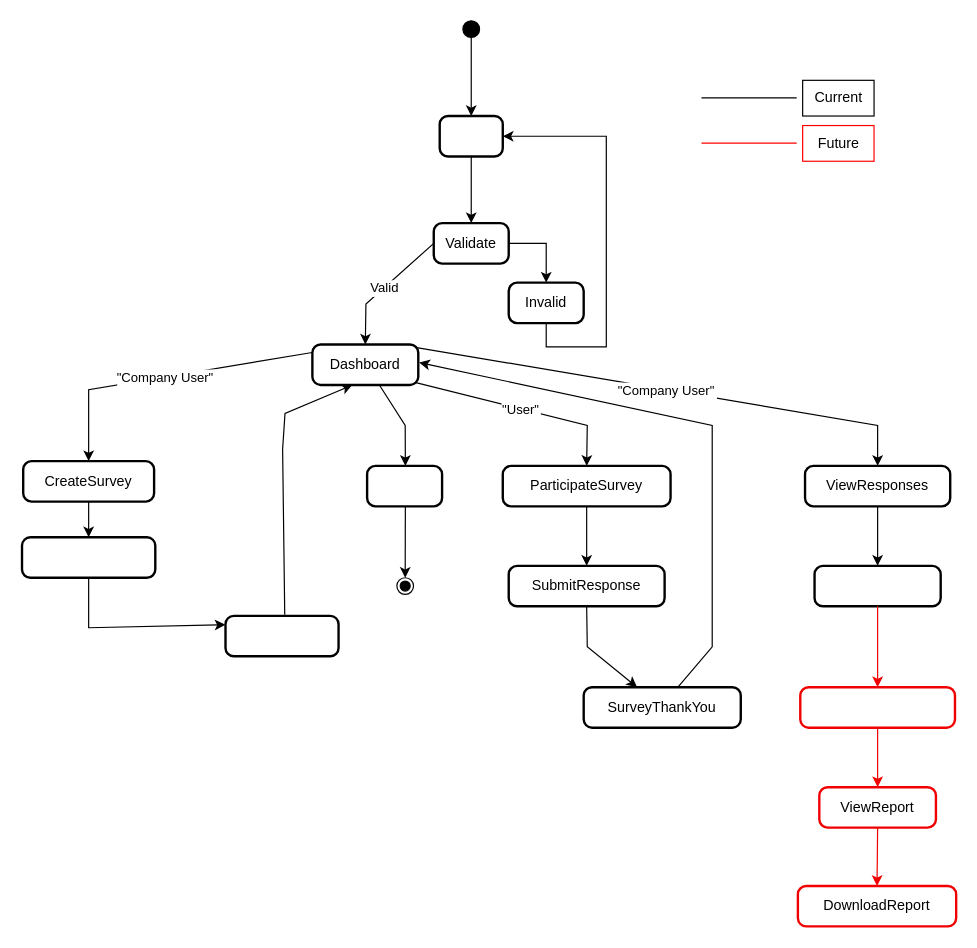
This 977x948 diagram has some shape labels left out. Each missing label, with the centre of its shape:
"AddQuestions" belongs at (88,557).
"GenerateReport" belongs at (877,706).
"Login" belongs at (470,135).
"Logout" belongs at (404,485).
"SaveSurvey" belongs at (281,635).
"SelectSurvey" belongs at (877,585).
